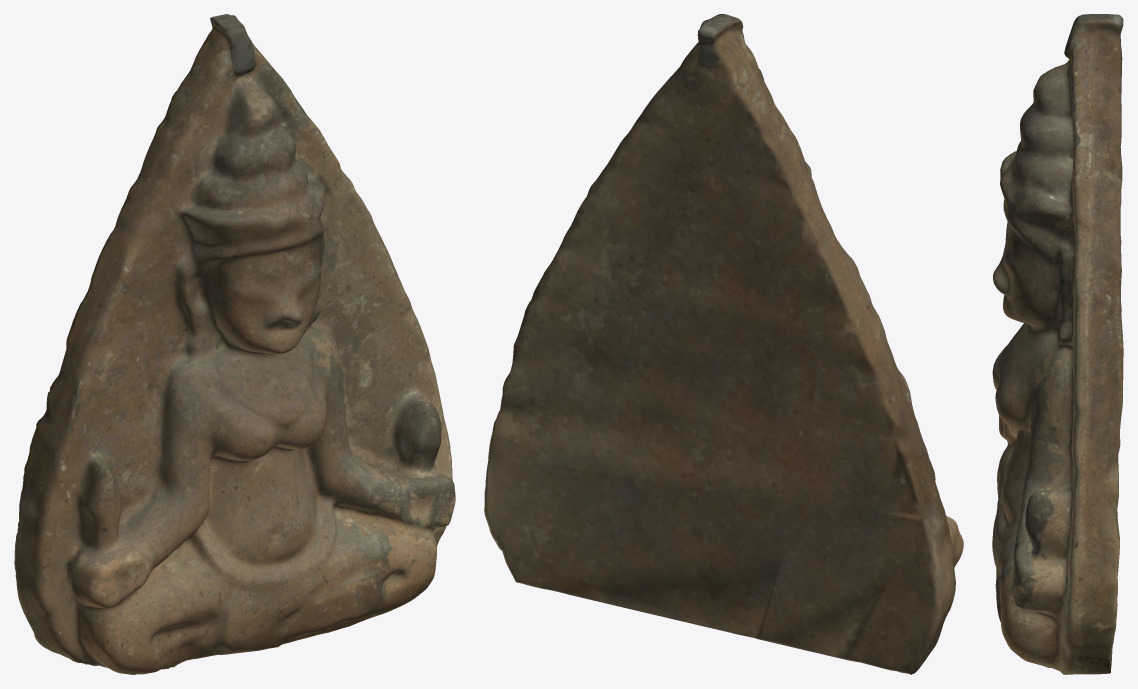
The picture shows the model from 3 angles, left to right: view 1: azimuth 30°, elevation 25°; view 2: azimuth 150°, elevation 25°; view 3: azimuth 270°, elevation 25°; orthographic projection. The views are drawn at different scales.
Size of the model in its own units: 0.3925 by 0.5221 by 0.1068.
Materials: 1 (1 with a texture image).
